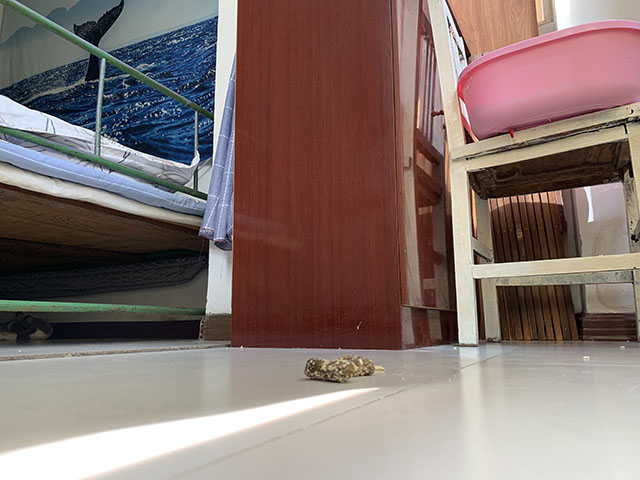bed: (1, 1, 213, 317)
cabinet: (231, 1, 458, 351)
feces: (303, 354, 377, 384)
stool: (428, 1, 639, 349)
